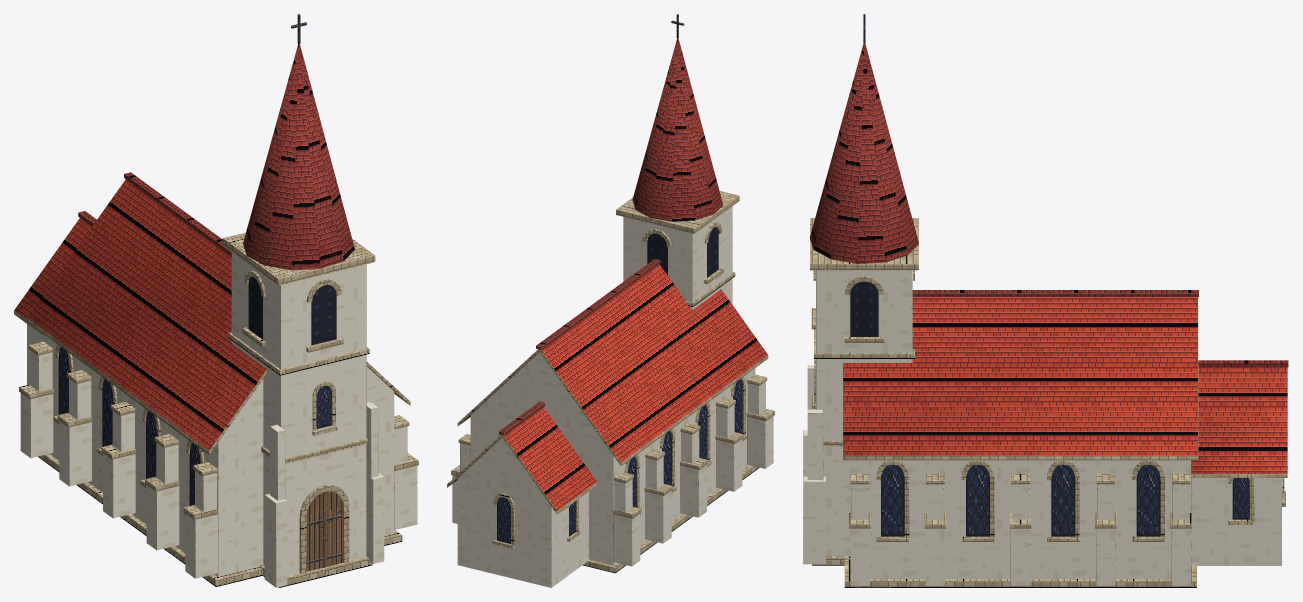
The model's file is chapel_1.glb.
The picture shows the model from 3 angles, left to right: view 1: azimuth 30°, elevation 25°; view 2: azimuth 150°, elevation 25°; view 3: azimuth 270°, elevation 25°; orthographic projection. The views are drawn at different scales.
Parts seen in each view (by area): view 1: chapel_2; view 2: chapel_2; view 3: chapel_2.
Part boxes in pixels (x1,y1,x2,y2): chapel_2: (14,14,418,587); chapel_2: (447,14,774,587); chapel_2: (803,14,1288,587).
Bounding box in the file's own units: 8.9 × 20.55 × 17.08.
11 materials, 11 textured.
